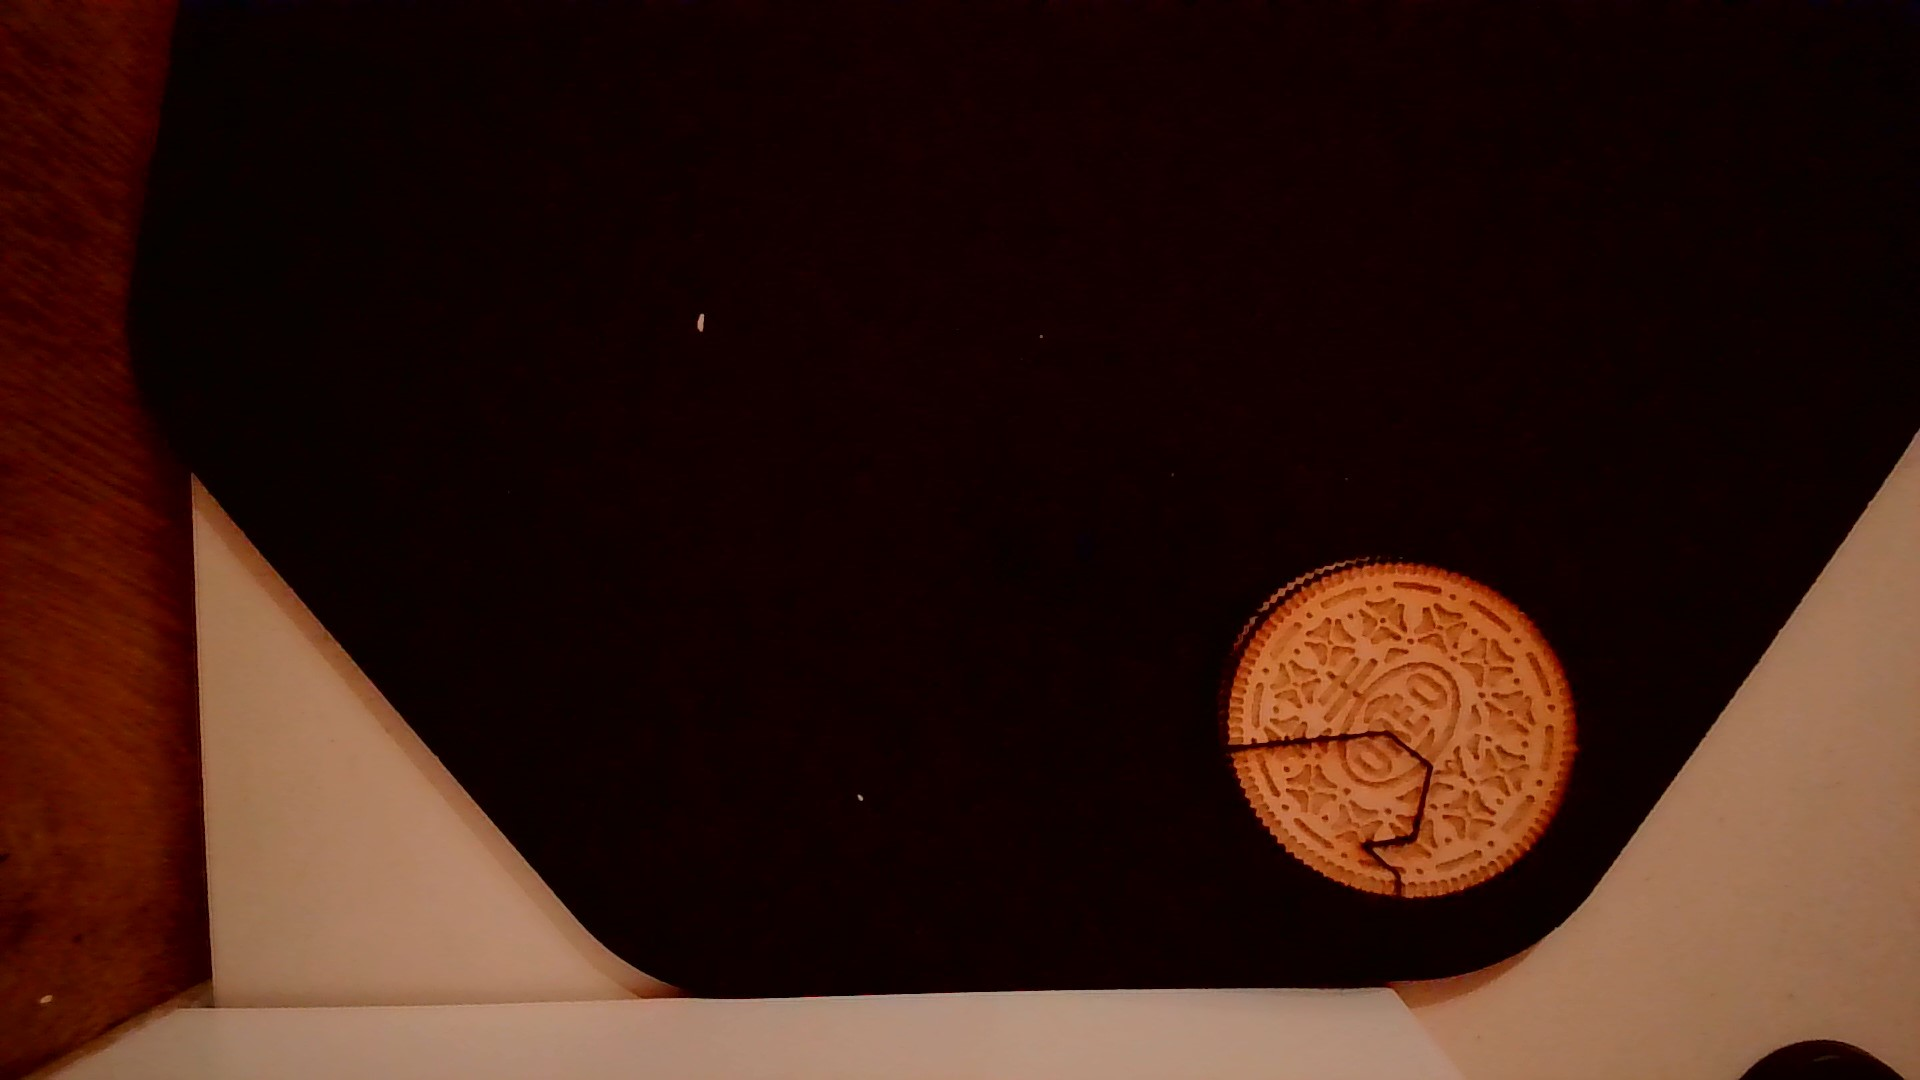Fissure: (1220, 717, 1439, 909)
Oréo: (1216, 546, 1590, 899)
